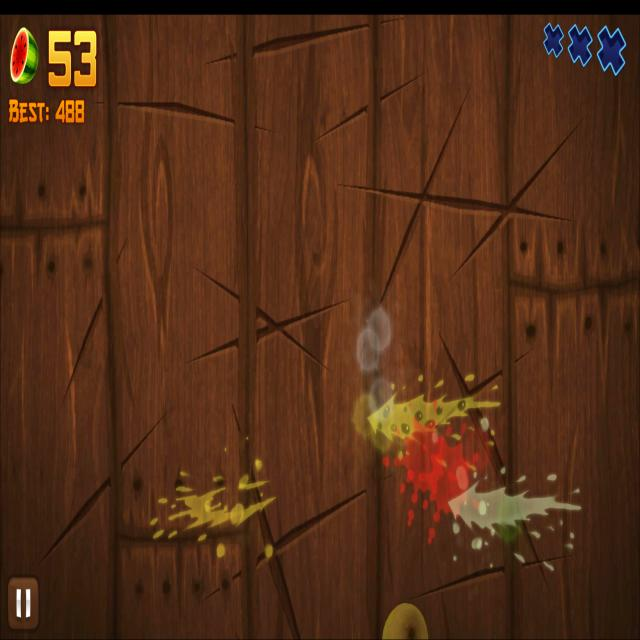fruit: (381, 600, 429, 640)
